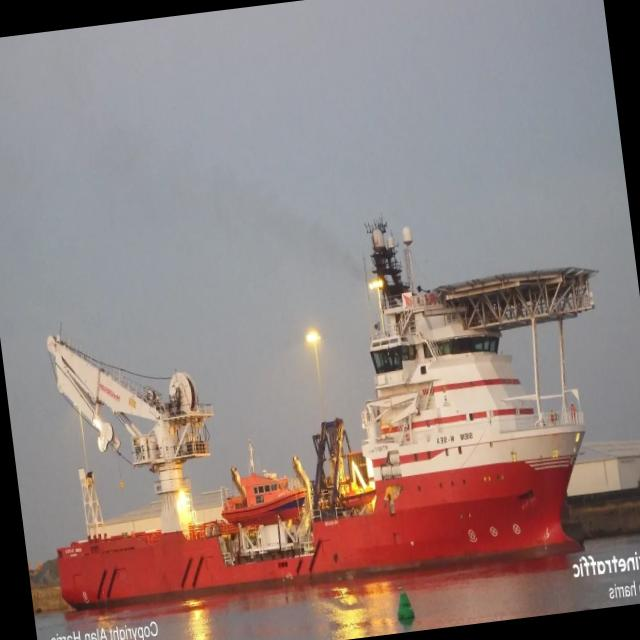Offshore: (47, 219, 593, 607)
